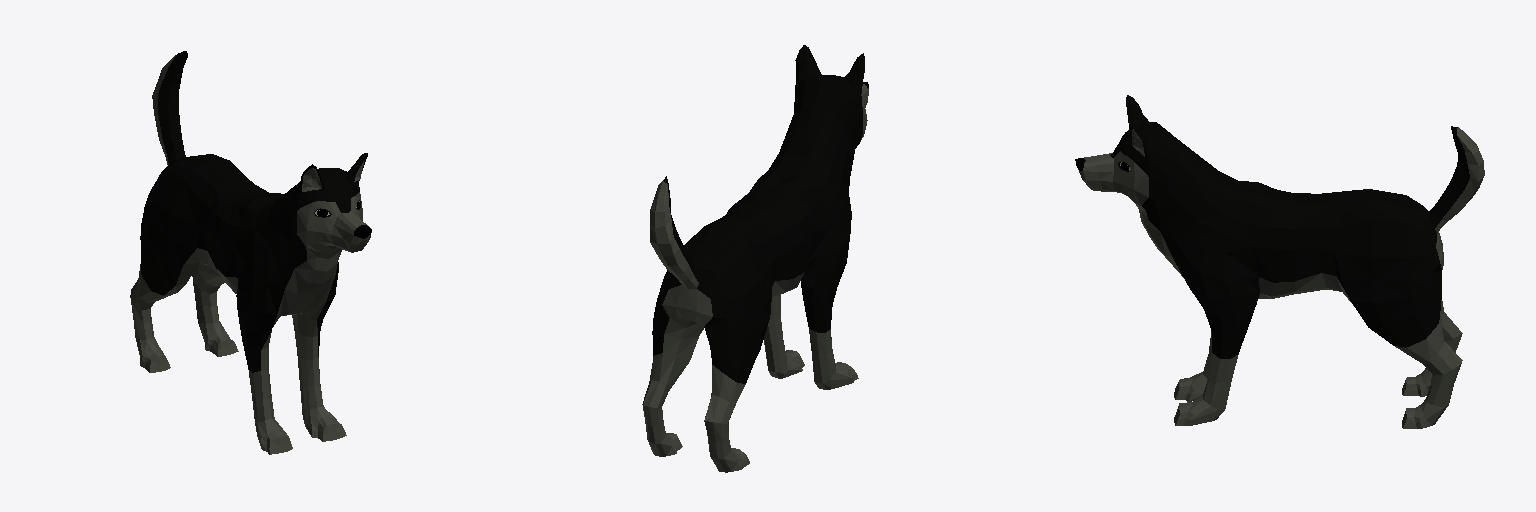
File: Husky.obj
3 views of the same model, side by side, from view 1: azimuth 30°, elevation 25°; view 2: azimuth 150°, elevation 25°; view 3: azimuth 270°, elevation 25° (orthographic).
Visible parts, largest first — view 1: Cube; view 2: Cube; view 3: Cube.
Boxes of the visible parts, <box> form: Cube: <box>130,51,371,454</box>; Cube: <box>642,45,868,472</box>; Cube: <box>1075,95,1484,428</box>.
Bounding box in the file's own units: 0.99 × 3.19 × 3.89.